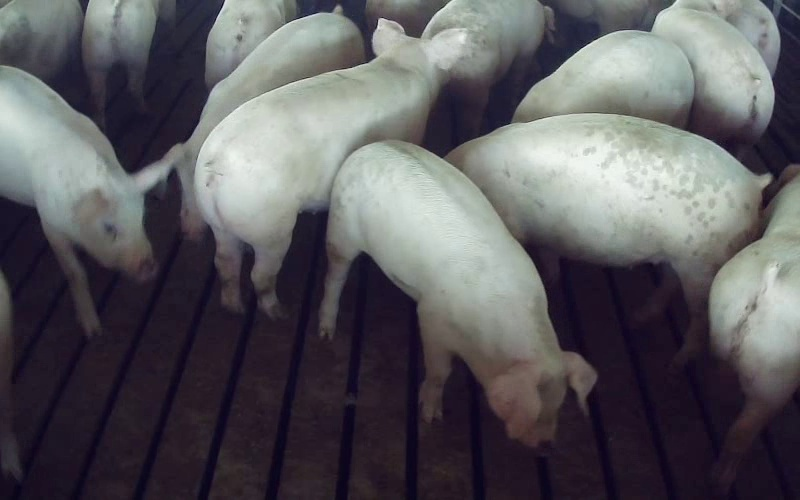pig: (320, 141, 595, 446), (194, 19, 464, 317), (447, 114, 769, 361), (166, 8, 364, 237), (711, 166, 799, 492), (512, 30, 693, 128), (652, 0, 773, 141), (0, 0, 83, 80)
